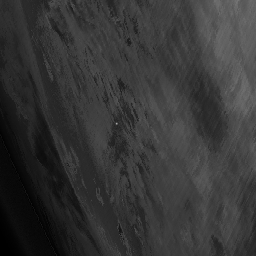Target: (114, 120, 119, 125)
